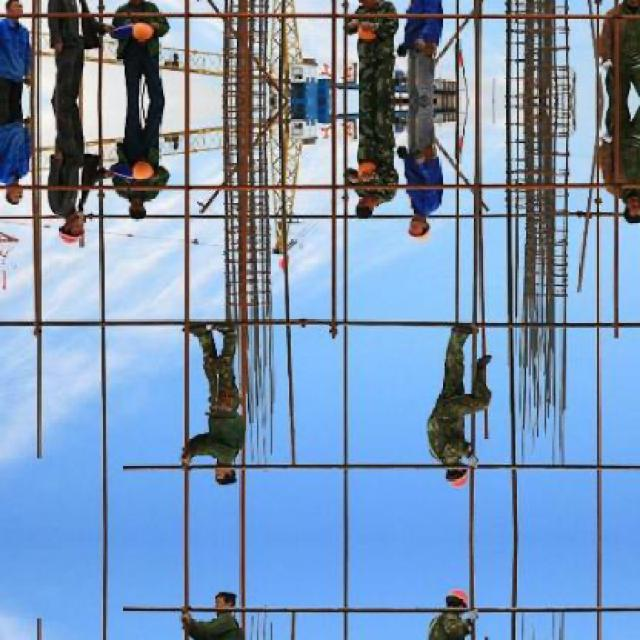con casco: (192, 443, 278, 503), (19, 196, 97, 262), (388, 178, 444, 258), (418, 438, 478, 497)
sin casco: (128, 176, 168, 241), (316, 188, 392, 222)
